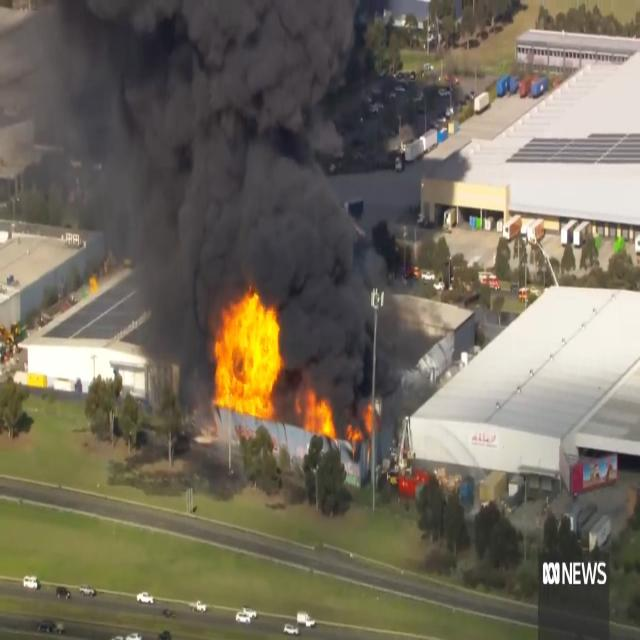fire: (200, 286, 288, 436), (302, 387, 347, 443)
